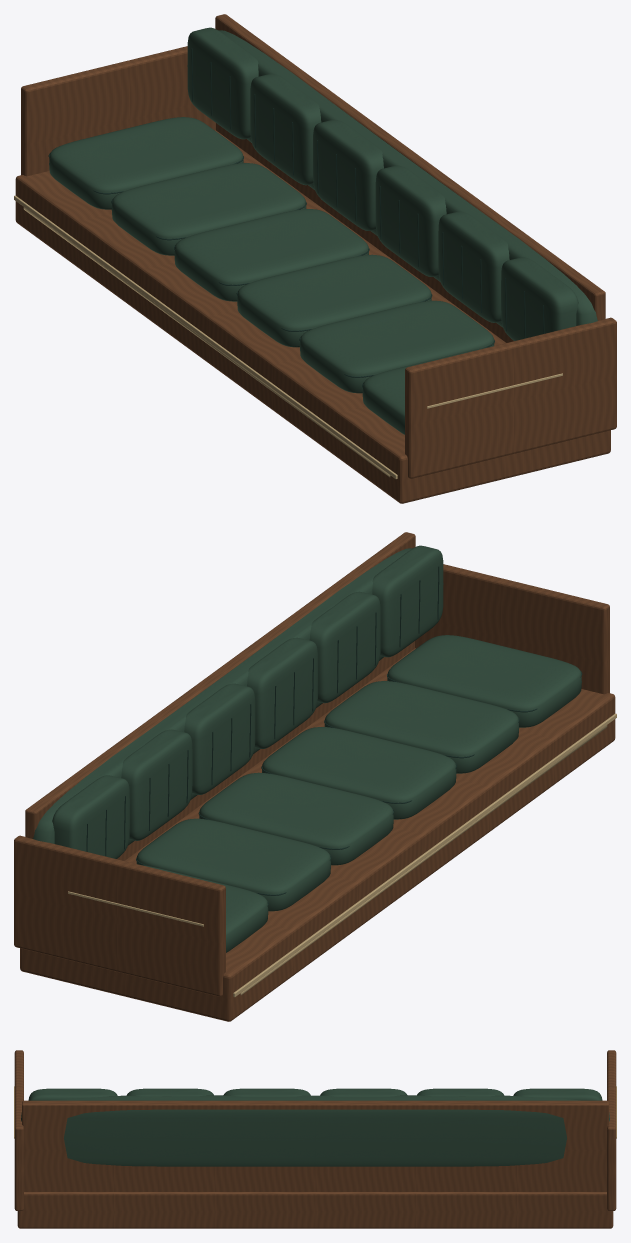
Rendered from hotel-booth.glb.
3 renders of one model, top to bottom at view 1: azimuth 30°, elevation 25°; view 2: azimuth 150°, elevation 25°; view 3: azimuth 270°, elevation 25°, orthographic. The views are drawn at different scales.
Parts seen in each view (by area): view 1: hotel-booth / Hotel forest velvet.002, hotel-booth / Hotel satin walnut.002, hotel-booth / Hotel satin champagne brass.002, hotel-booth / Hotel upholstery dark piping.002; view 2: hotel-booth / Hotel forest velvet.002, hotel-booth / Hotel satin walnut.002, hotel-booth / Hotel satin champagne brass.002, hotel-booth / Hotel upholstery dark piping.002; view 3: hotel-booth / Hotel satin walnut.002, hotel-booth / Hotel forest velvet.002.
Boxes of the visible parts, box(x1,y1,x2,y2) form: hotel-booth / Hotel forest velvet.002: box(49, 27, 597, 434); hotel-booth / Hotel satin walnut.002: box(15, 14, 616, 503); hotel-booth / Hotel satin champagne brass.002: box(14, 195, 562, 479); hotel-booth / Hotel upholstery dark piping.002: box(48, 48, 544, 388); hotel-booth / Hotel forest velvet.002: box(33, 545, 581, 952); hotel-booth / Hotel satin walnut.002: box(14, 532, 615, 1021); hotel-booth / Hotel satin champagne brass.002: box(68, 713, 616, 997); hotel-booth / Hotel upholstery dark piping.002: box(86, 566, 582, 906); hotel-booth / Hotel satin walnut.002: box(14, 1050, 616, 1228); hotel-booth / Hotel forest velvet.002: box(21, 1088, 609, 1166).
Size of the model in its own units: 1.93 by 1.36 by 5.99.
Materials: 4 (2 with a texture image).
